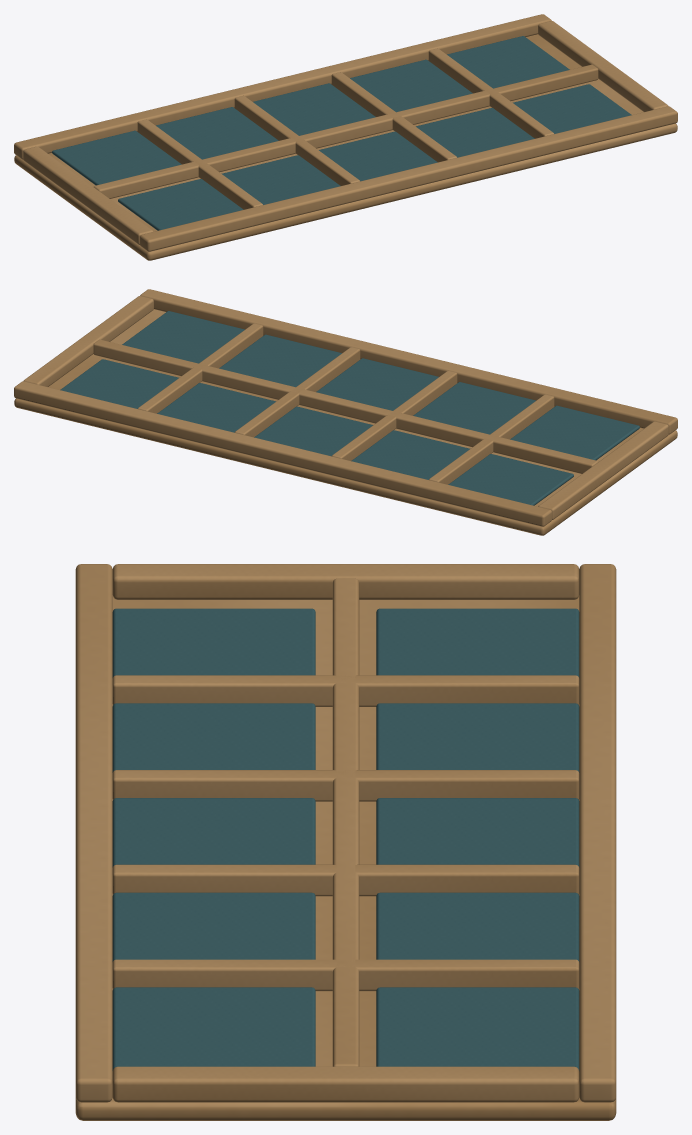
File: ten_frame.glb
3 renders of one model, top to bottom at view 1: azimuth 30°, elevation 25°; view 2: azimuth 150°, elevation 25°; view 3: azimuth 270°, elevation 25°, orthographic. The views are drawn at different scales.
Parts seen in each view (by area): view 1: OuterLongRail.001, OakTrayBase, OuterLongRail, MiddleRail, SlotWell_00, SlotWell_05, SlotWell_01, SlotWell_02, SlotWell_03, SlotWell_04, SlotWell_07, SlotWell_06 (+8 smaller); view 2: OuterLongRail, OakTrayBase, OuterLongRail.001, MiddleRail, SlotWell_05, SlotWell_00, SlotWell_06, SlotWell_07, SlotWell_08, SlotWell_09, SlotWell_02, SlotWell_01 (+8 smaller); view 3: OakTrayBase, OuterLongRail, OuterLongRail.001, OuterShortRail.001, SlotWell_04, SlotWell_09, OuterShortRail, SlotWell_00, SlotWell_05, SlotWell_03, SlotWell_08, SlotWell_01 (+8 smaller).
Boxes of the visible parts, x1,y1,x2,y2 form: OuterLongRail.001: [140, 106, 677, 251]; OakTrayBase: [14, 34, 677, 260]; OuterLongRail: [14, 14, 551, 159]; MiddleRail: [94, 64, 598, 198]; SlotWell_00: [52, 130, 181, 185]; SlotWell_05: [118, 179, 243, 230]; SlotWell_01: [156, 107, 278, 159]; SlotWell_02: [253, 83, 375, 135]; SlotWell_03: [350, 59, 472, 112]; SlotWell_04: [447, 36, 569, 88]; SlotWell_07: [319, 131, 437, 181]; SlotWell_06: [221, 155, 340, 204]; OuterLongRail: [14, 381, 551, 526]; OakTrayBase: [14, 309, 677, 535]; OuterLongRail.001: [140, 289, 677, 434]; MiddleRail: [93, 339, 597, 473]; SlotWell_05: [510, 405, 639, 460]; SlotWell_00: [448, 454, 573, 505]; SlotWell_06: [413, 382, 535, 434]; SlotWell_07: [316, 358, 438, 410]; SlotWell_08: [219, 334, 341, 387]; SlotWell_09: [122, 311, 244, 363]; SlotWell_02: [254, 406, 372, 456]; SlotWell_01: [351, 430, 470, 479]; OakTrayBase: [75, 595, 616, 1120]; OuterLongRail: [579, 564, 616, 1102]; OuterLongRail.001: [75, 564, 112, 1102]; OuterShortRail.001: [112, 1066, 579, 1102]; SlotWell_04: [376, 987, 579, 1070]; SlotWell_09: [112, 987, 315, 1070]; OuterShortRail: [112, 564, 579, 599]; SlotWell_00: [376, 608, 579, 677]; SlotWell_05: [112, 608, 315, 677]; SlotWell_03: [376, 892, 579, 961]; SlotWell_08: [112, 892, 315, 961]; SlotWell_01: [376, 703, 579, 772].
Bounding box in the file's own units: 4.65 × 0.18 × 2.05.
1 material, 1 textured.
